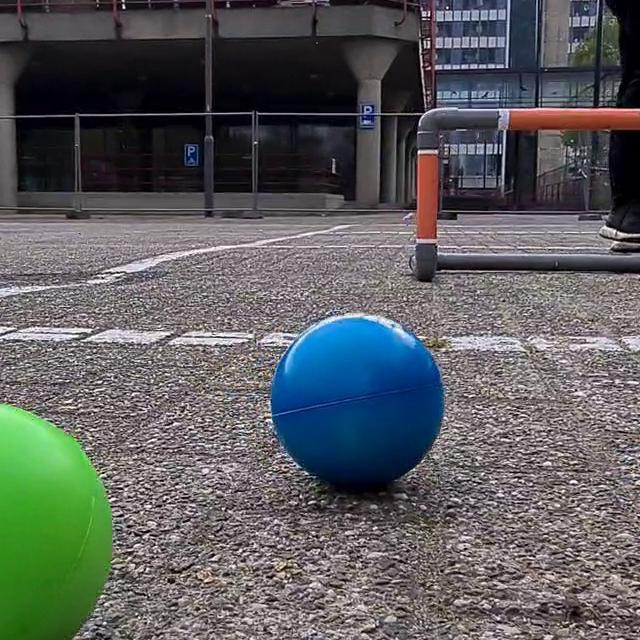ball: (268, 309, 444, 492), (0, 396, 118, 640)
